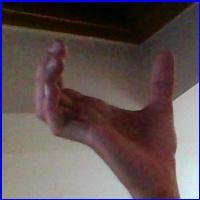space: (38, 35, 188, 171)
